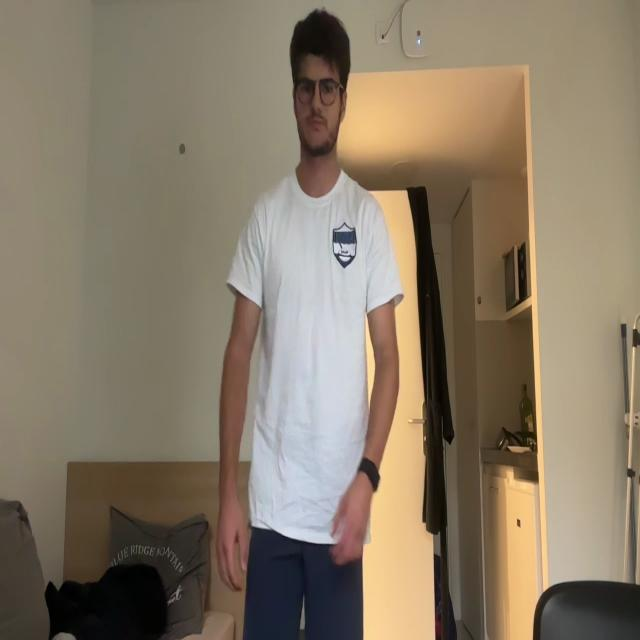elbow: (224, 330, 253, 386), (373, 348, 401, 399)
hand: (216, 507, 250, 592), (331, 494, 366, 566)
shoulder: (232, 188, 265, 274), (363, 184, 391, 276)
